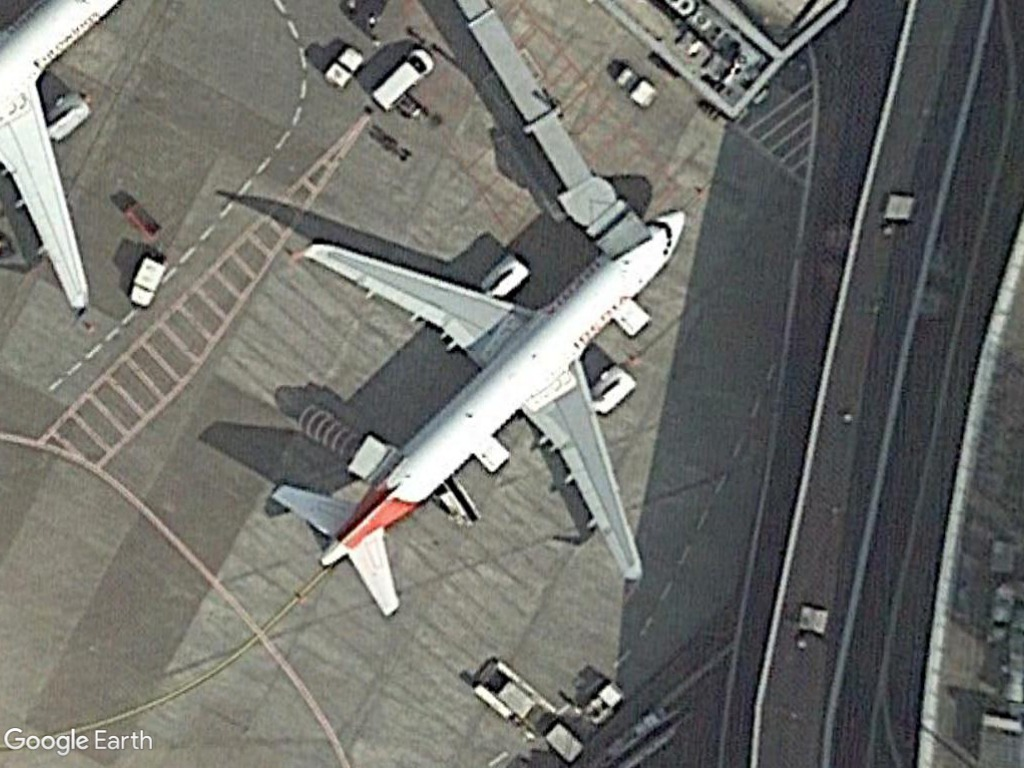airliner: (265, 198, 705, 622)
van: (368, 46, 435, 114)
